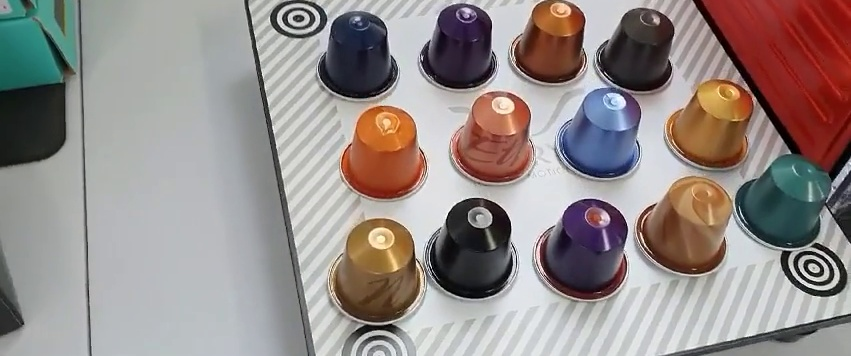capsule_1: (313, 14, 400, 104)
capsule_10: (423, 198, 520, 302)
capsule_11: (533, 196, 632, 304)
capsule_12: (636, 180, 734, 280)
capsule_13: (737, 154, 830, 253)
capsule_2: (419, 6, 498, 90)
capsule_3: (506, 3, 591, 88)
capsule_4: (593, 7, 679, 97)
capsule_5: (339, 105, 429, 201)
capsule_6: (447, 90, 534, 188)
capsule_7: (550, 87, 643, 182)
capsule_8: (665, 80, 753, 173)
capsule_9: (328, 216, 429, 327)
